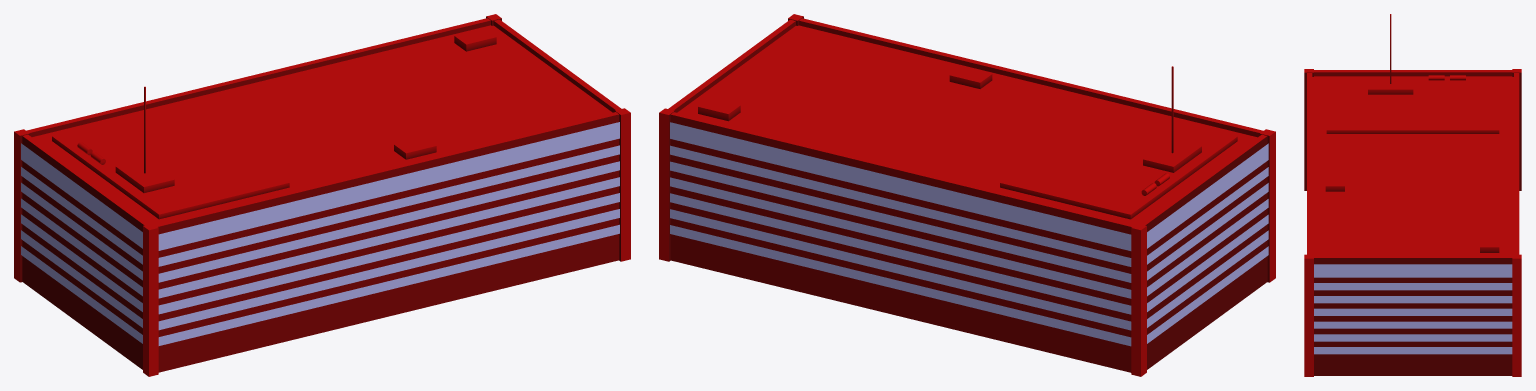
Rendered from buildings-industrial-wideofficebuilding_v3.fbx.
3 renders of one model, left to right at view 1: azimuth 30°, elevation 25°; view 2: azimuth 150°, elevation 25°; view 3: azimuth 270°, elevation 25°, orthographic. The views are drawn at different scales.
Visible parts, largest first — view 1: WideOfficeBuilding_v3_base, WideOfficeBuilding_v3_windowRefl; view 2: WideOfficeBuilding_v3_base, WideOfficeBuilding_v3_windowRefl; view 3: WideOfficeBuilding_v3_base, WideOfficeBuilding_v3_windowRefl.
Boxes of the visible parts, x1,y1,x2,y2 form: WideOfficeBuilding_v3_base: (14, 14, 630, 376); WideOfficeBuilding_v3_windowRefl: (21, 122, 619, 345); WideOfficeBuilding_v3_base: (659, 14, 1275, 376); WideOfficeBuilding_v3_windowRefl: (670, 122, 1268, 346); WideOfficeBuilding_v3_base: (1304, 14, 1521, 376); WideOfficeBuilding_v3_windowRefl: (1314, 264, 1512, 354).
Size of the model in its own units: 48.65 by 23.02 by 23.58.
